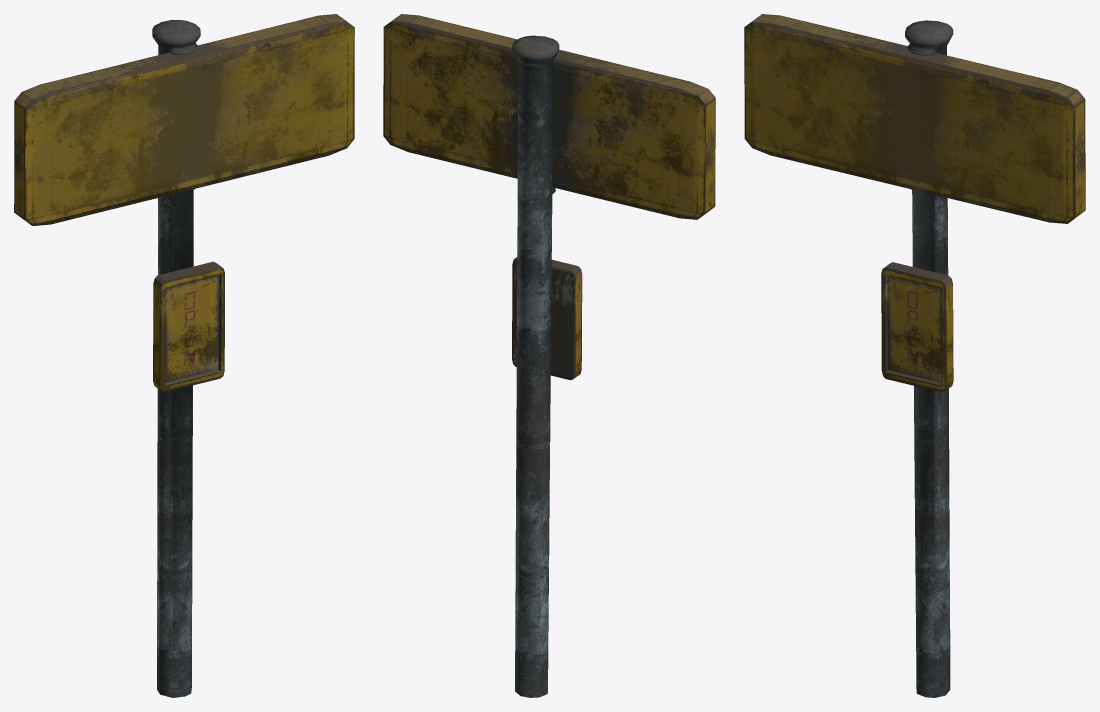
File: Name-Broad.fbx
3 renders of one model, left to right at view 1: azimuth 30°, elevation 25°; view 2: azimuth 150°, elevation 25°; view 3: azimuth 330°, elevation 25°, orthographic. The views are drawn at different scales.
Visible parts, largest first — view 1: Name_Broad; view 2: Name_Broad; view 3: Name_Broad.
Part boxes in pixels (bbox=[...]): Name_Broad: bbox=[14, 14, 354, 697]; Name_Broad: bbox=[383, 14, 715, 697]; Name_Broad: bbox=[744, 14, 1085, 697].
Size of the model in its own units: 212 by 407 by 32.71.
Materials: 1 (1 with a texture image).
